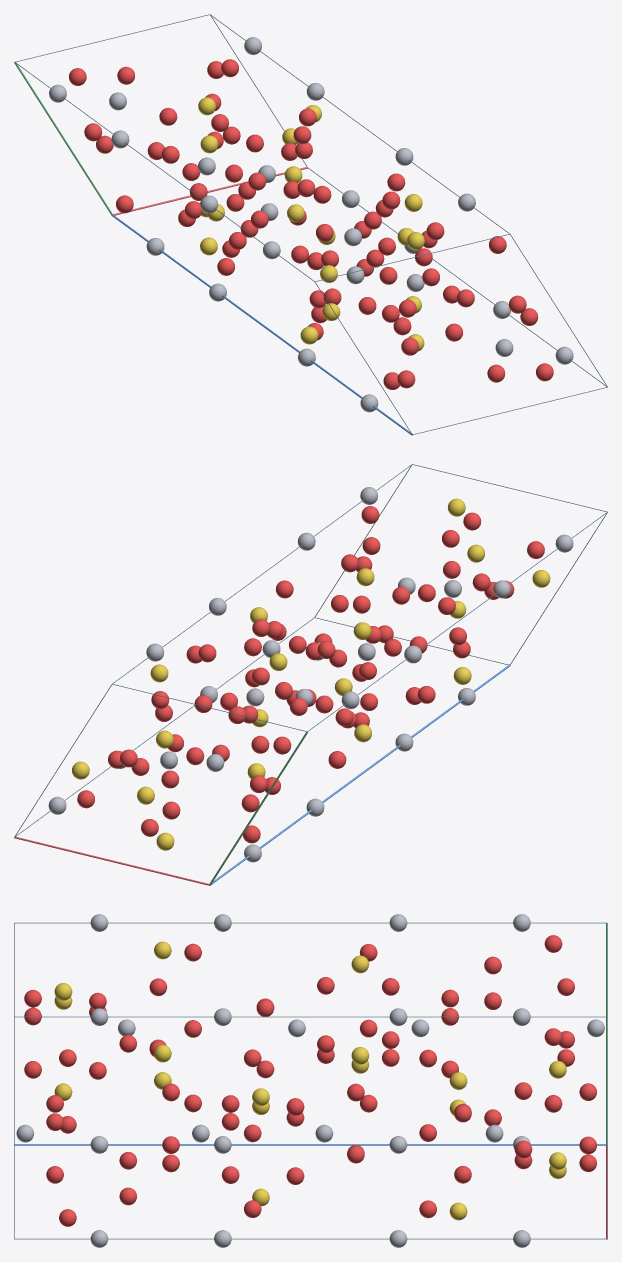
The model's file is chat-aluminium-sulfate.glb.
3 views of the same model, one above another, from view 1: azimuth 30°, elevation 25°; view 2: azimuth 150°, elevation 25°; view 3: azimuth 270°, elevation 25° (orthographic).
Parts seen in each view (by area): view 1: Ô mạng và các trục a, b, c; view 2: Ô mạng và các trục a, b, c; view 3: Ô mạng và các trục a, b, c.
Part boxes in pixels (x1,y1,x2,y2): Ô mạng và các trục a, b, c: (14,14,607,435); Ô mạng và các trục a, b, c: (14,464,607,885); Ô mạng và các trục a, b, c: (14,922,607,1239).
Size of the model in its own units: 12.68 by 7.59 by 21.4.
